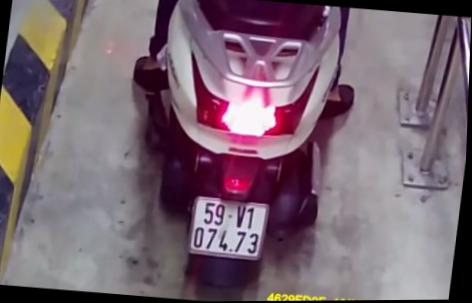LP: (189, 193, 272, 262)
